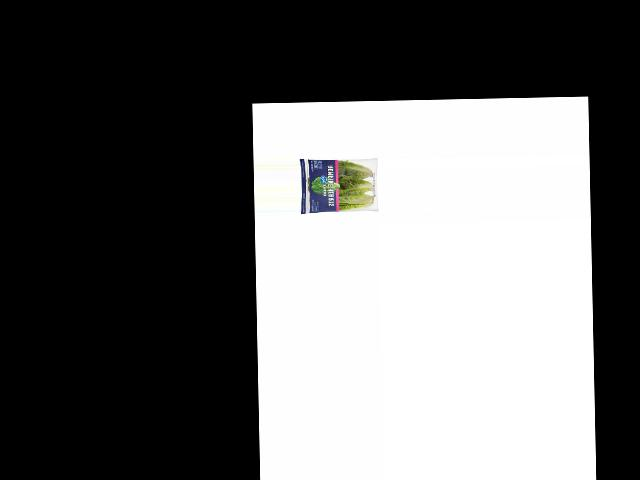lettuce: (301, 155, 376, 216)
